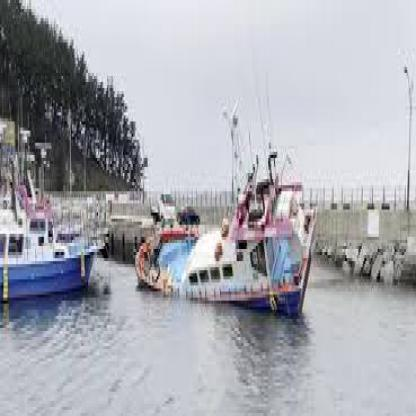fish-b: (130, 146, 324, 331), (0, 185, 115, 322)
